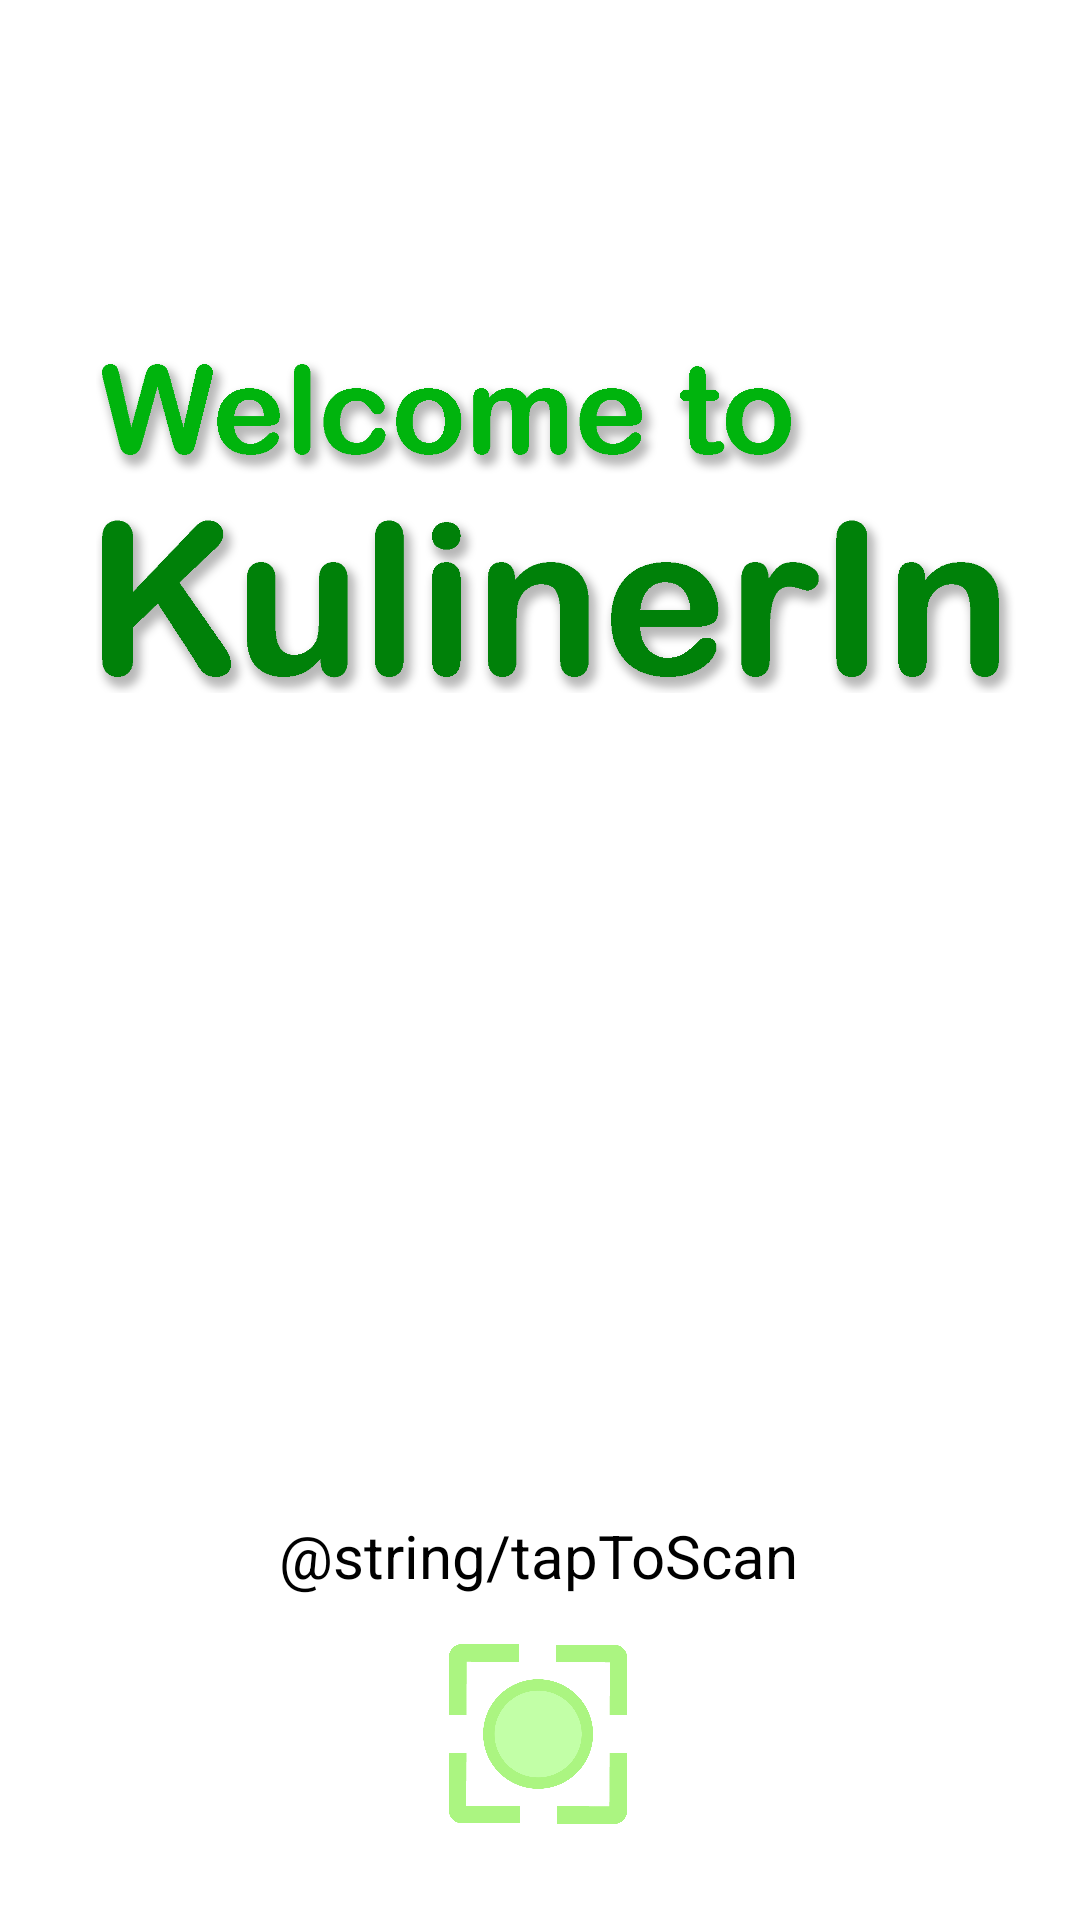

Locate icon controls on the screen. Image size 1080x1920, boxes as BBox(x1, y1, x2, y2).
scanicon: BBox(449, 1644, 627, 1824)
